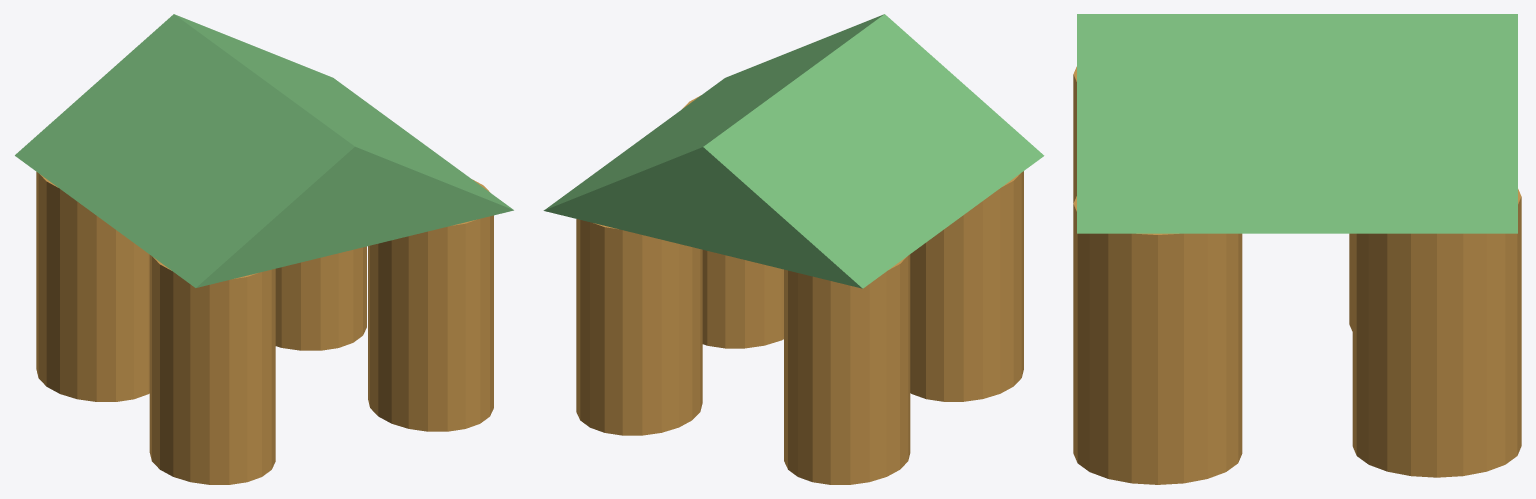
Rendered from Die on the Workplane (2).glb.
3 renders of one model, left to right at view 1: azimuth 30°, elevation 25°; view 2: azimuth 150°, elevation 25°; view 3: azimuth 270°, elevation 25°, orthographic. The views are drawn at different scales.
Visible parts, largest first — view 1: Mesh_Mesh_head_geo.001_lambert2SG.001; view 2: Mesh_Mesh_head_geo.001_lambert2SG.001; view 3: Mesh_Mesh_head_geo.001_lambert2SG.001.
Part boxes in pixels (x1,y1,x2,y2): Mesh_Mesh_head_geo.001_lambert2SG.001: (15,14,513,484); Mesh_Mesh_head_geo.001_lambert2SG.001: (543,14,1044,484); Mesh_Mesh_head_geo.001_lambert2SG.001: (1073,14,1521,484).
Bounding box in the file's own units: 33 × 30 × 32.5.
